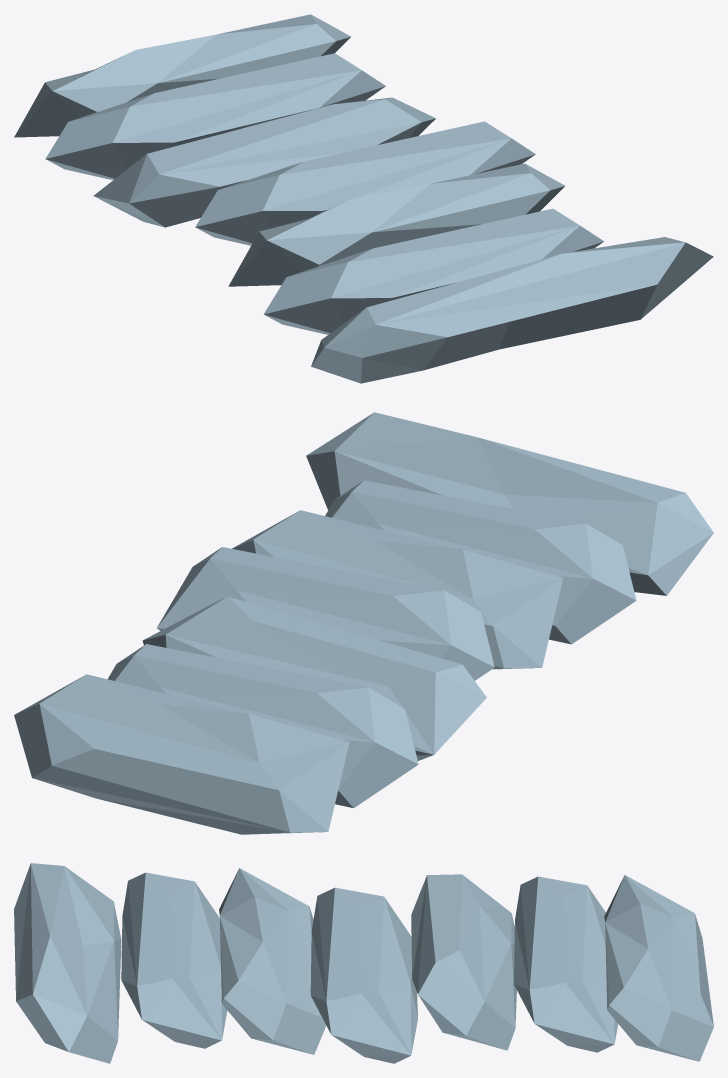
The model's file is Stairs (stone).fbx.
3 views of the same model, one above another, from view 1: azimuth 30°, elevation 25°; view 2: azimuth 150°, elevation 25°; view 3: azimuth 270°, elevation 25° (orthographic). The views are drawn at different scales.
Visible parts, largest first — view 1: Stone Stairs; view 2: Stone Stairs; view 3: Stone Stairs.
Part boxes in pixels (<box>): Stone Stairs: <box>14,14,713,383</box>; Stone Stairs: <box>14,412,713,834</box>; Stone Stairs: <box>14,863,713,1063</box>.
Bounding box in the file's own units: 763 × 198 × 1289.
